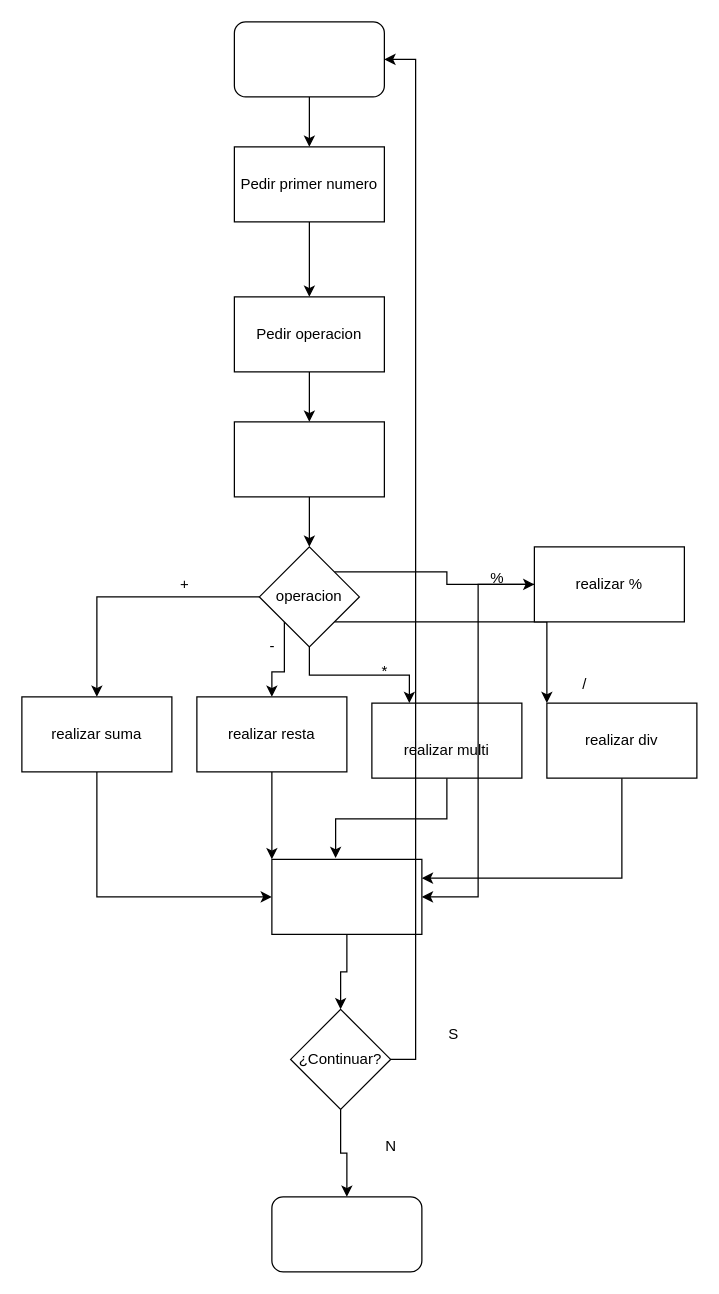
Image size: 719x1294. Some labels were removed from this diagram. Each missing label, with the centre of its shape:
"FIN" belongs at point 346,1234.
"INICIO" belongs at point 308,59.
"Mostramos resultado" belongs at point 346,896.
"Pedir segundo numero" belongs at point 308,459.
